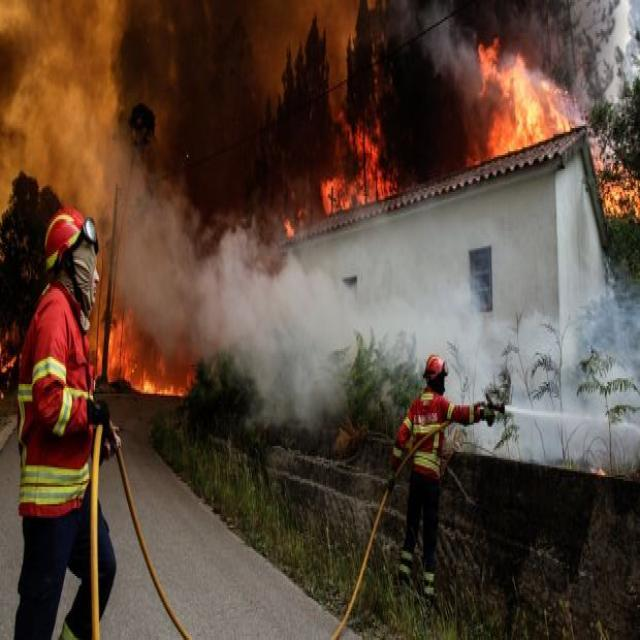Fire: (308, 109, 410, 228), (472, 36, 564, 138), (105, 322, 196, 396), (603, 166, 640, 216)
Smoke: (263, 257, 365, 418), (206, 220, 270, 396), (422, 5, 474, 89)
